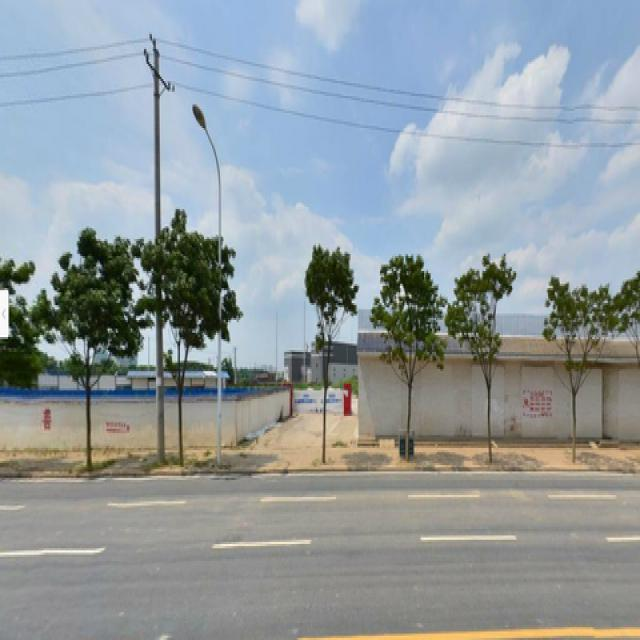koel: (40, 226, 135, 478)
